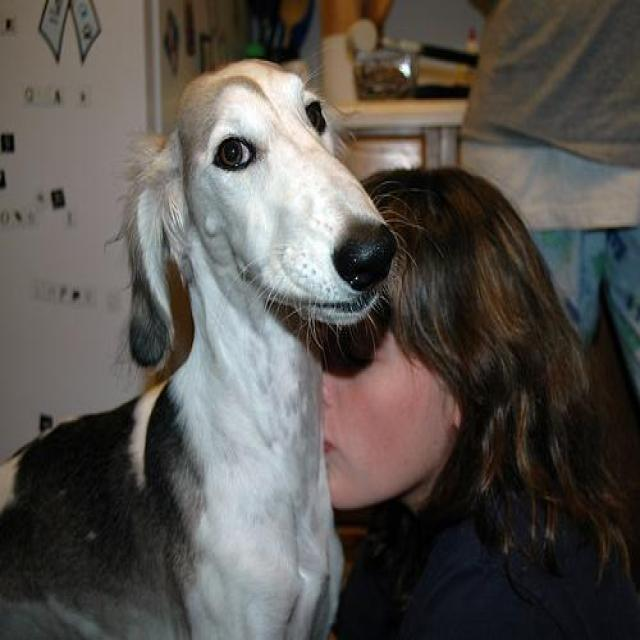saluki: (1, 57, 392, 635)
